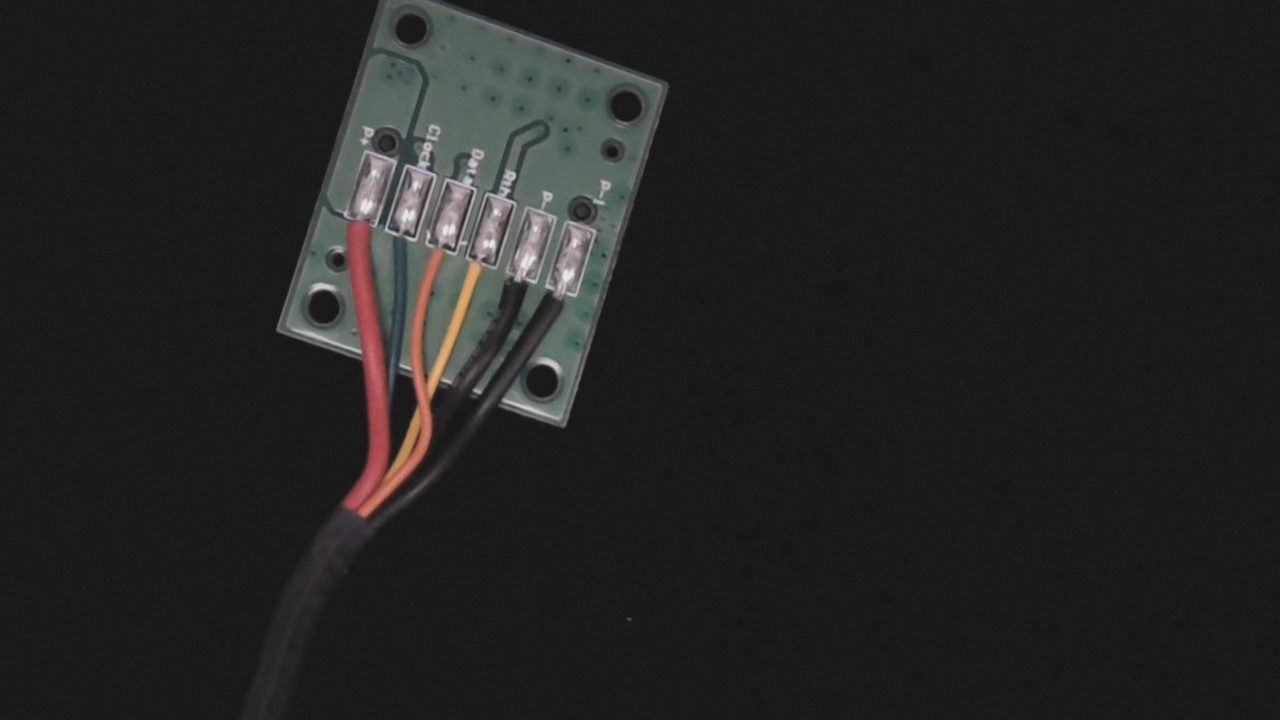Black: (483, 256, 541, 341)
Black1: (525, 270, 582, 351)
Green: (370, 215, 424, 288)
Orange: (407, 227, 462, 303)
Red: (327, 199, 385, 278)
Yellow: (445, 241, 501, 322)
